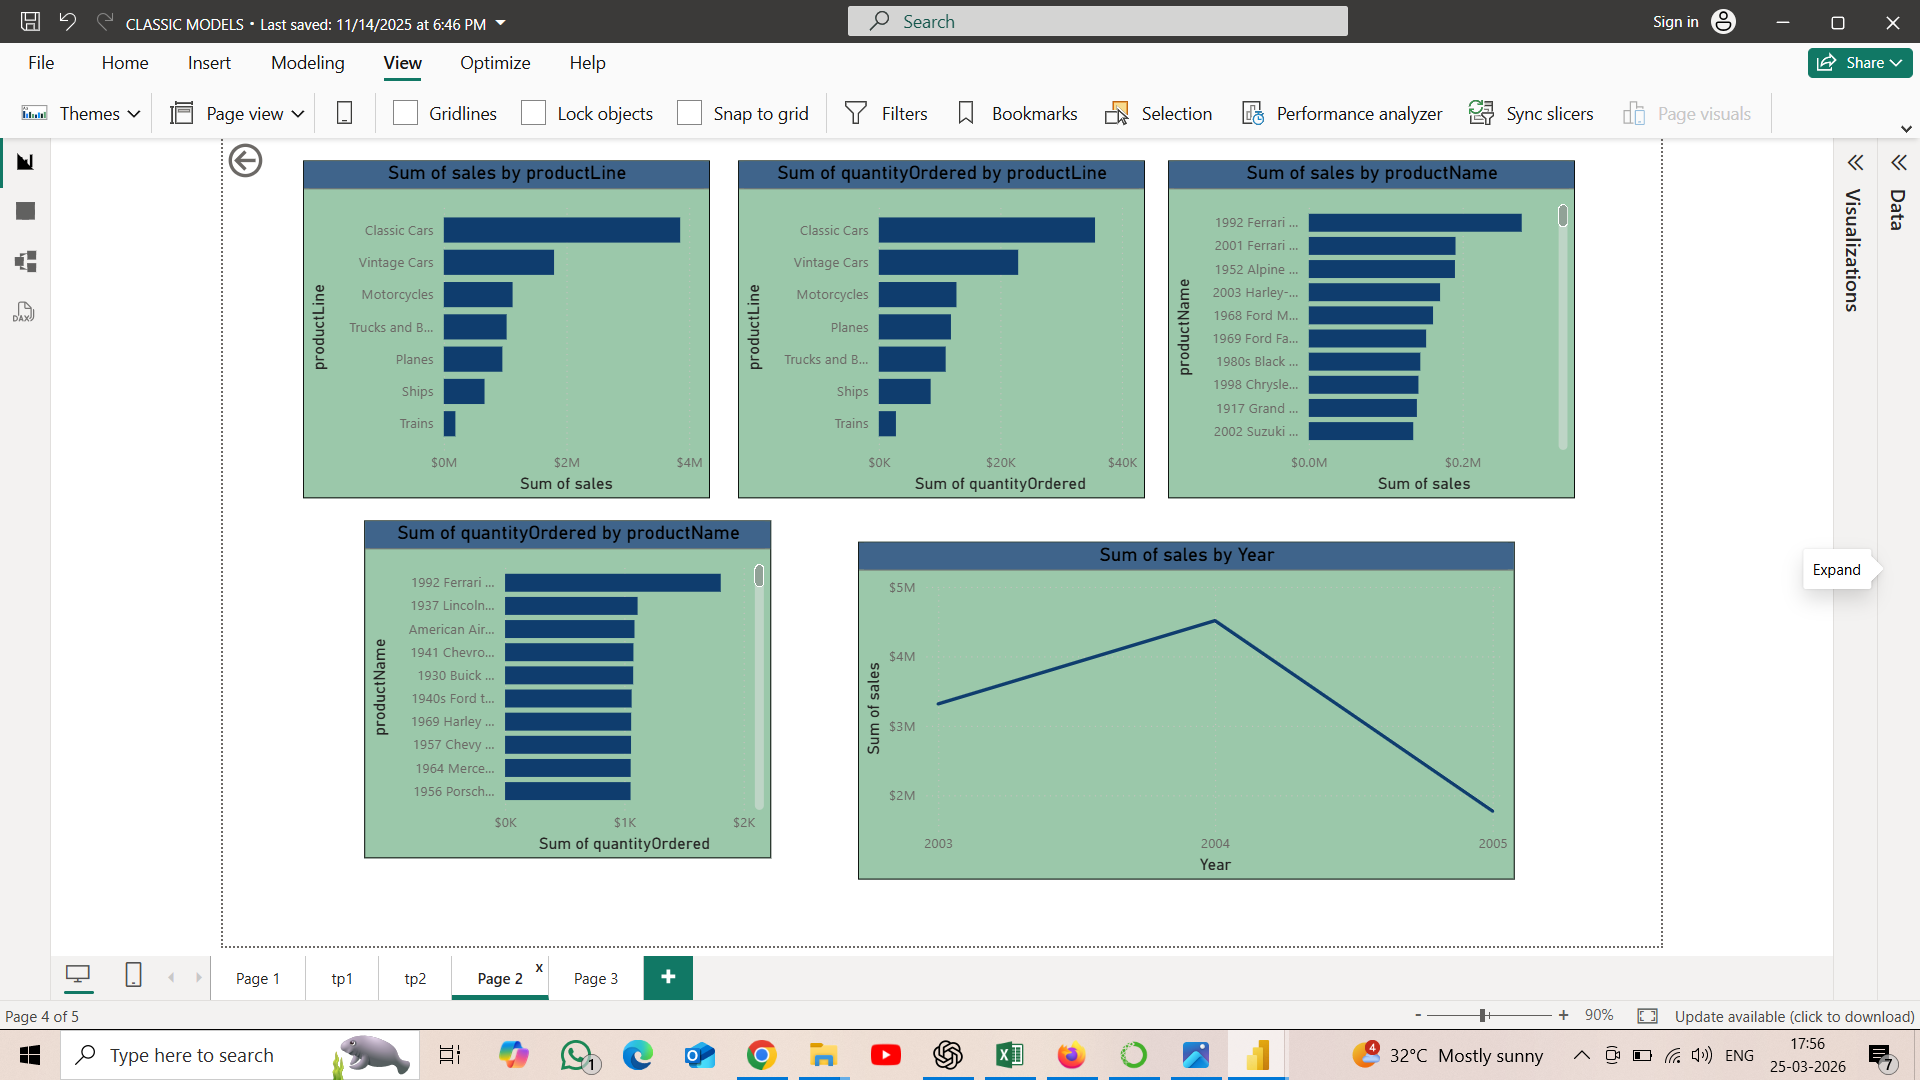

The page's visual inventory and layout, read from the dashboard file:
{"tool":"powerbi","page":{"name":"Page 2","canvas":[1280,720],"ordinal":3},"visuals":[{"type":"actionButton","box":[0,0,100,40],"z":0},{"type":"barChart","fields":{"Category":["productlines.productLine"],"Y":["Sum(order details.sales)"]},"box":[71.4,20.6,362.3,300.5],"z":1000},{"type":"barChart","fields":{"Y":["Sum(order details.quantityOrdered)"],"Category":["productlines.productLine"]},"box":[458.3,20.6,362.3,300.5],"z":2000},{"type":"barChart","fields":{"Y":["Sum(order details.sales)"],"Category":["products.productName"]},"box":[841.2,20.6,362.3,300.5],"z":3000},{"type":"barChart","fields":{"Y":["Sum(order details.quantityOrdered)"],"Category":["products.productName"]},"box":[126.2,340.3,362.3,300.5],"z":4000},{"type":"lineChart","fields":{"Y":["Sum(order details.sales)"],"Category":["orders.orderDate.Variation.Date Hierarchy.Year","orders.orderDate.Variation.Date Hierarchy.Quarter","orders.orderDate.Variation.Date Hierarchy.Month","orders.orderDate.Variation.Date Hierarchy.Day"]},"box":[565.4,359.5,584.6,300.5],"z":5000}]}

Visuals, with their boxes on the page's 1280x720 design canvas (x1, y1, x2, y2). These are canvas units, not pixel positions in the 1920x1080 screenshot, which may show the page scaled, cropped or inside an application window:
actionButton: [x1=0, y1=0, x2=100, y2=40]
barChart - productlines.productLine x Sum(order details.sales): [x1=71, y1=21, x2=434, y2=321]
barChart - Sum(order details.quantityOrdered) x productlines.productLine: [x1=458, y1=21, x2=821, y2=321]
barChart - Sum(order details.sales) x products.productName: [x1=841, y1=21, x2=1204, y2=321]
barChart - Sum(order details.quantityOrdered) x products.productName: [x1=126, y1=340, x2=488, y2=641]
lineChart - Sum(order details.sales) x orders.orderDate.Variation.Date Hierarchy.Year: [x1=565, y1=360, x2=1150, y2=660]
